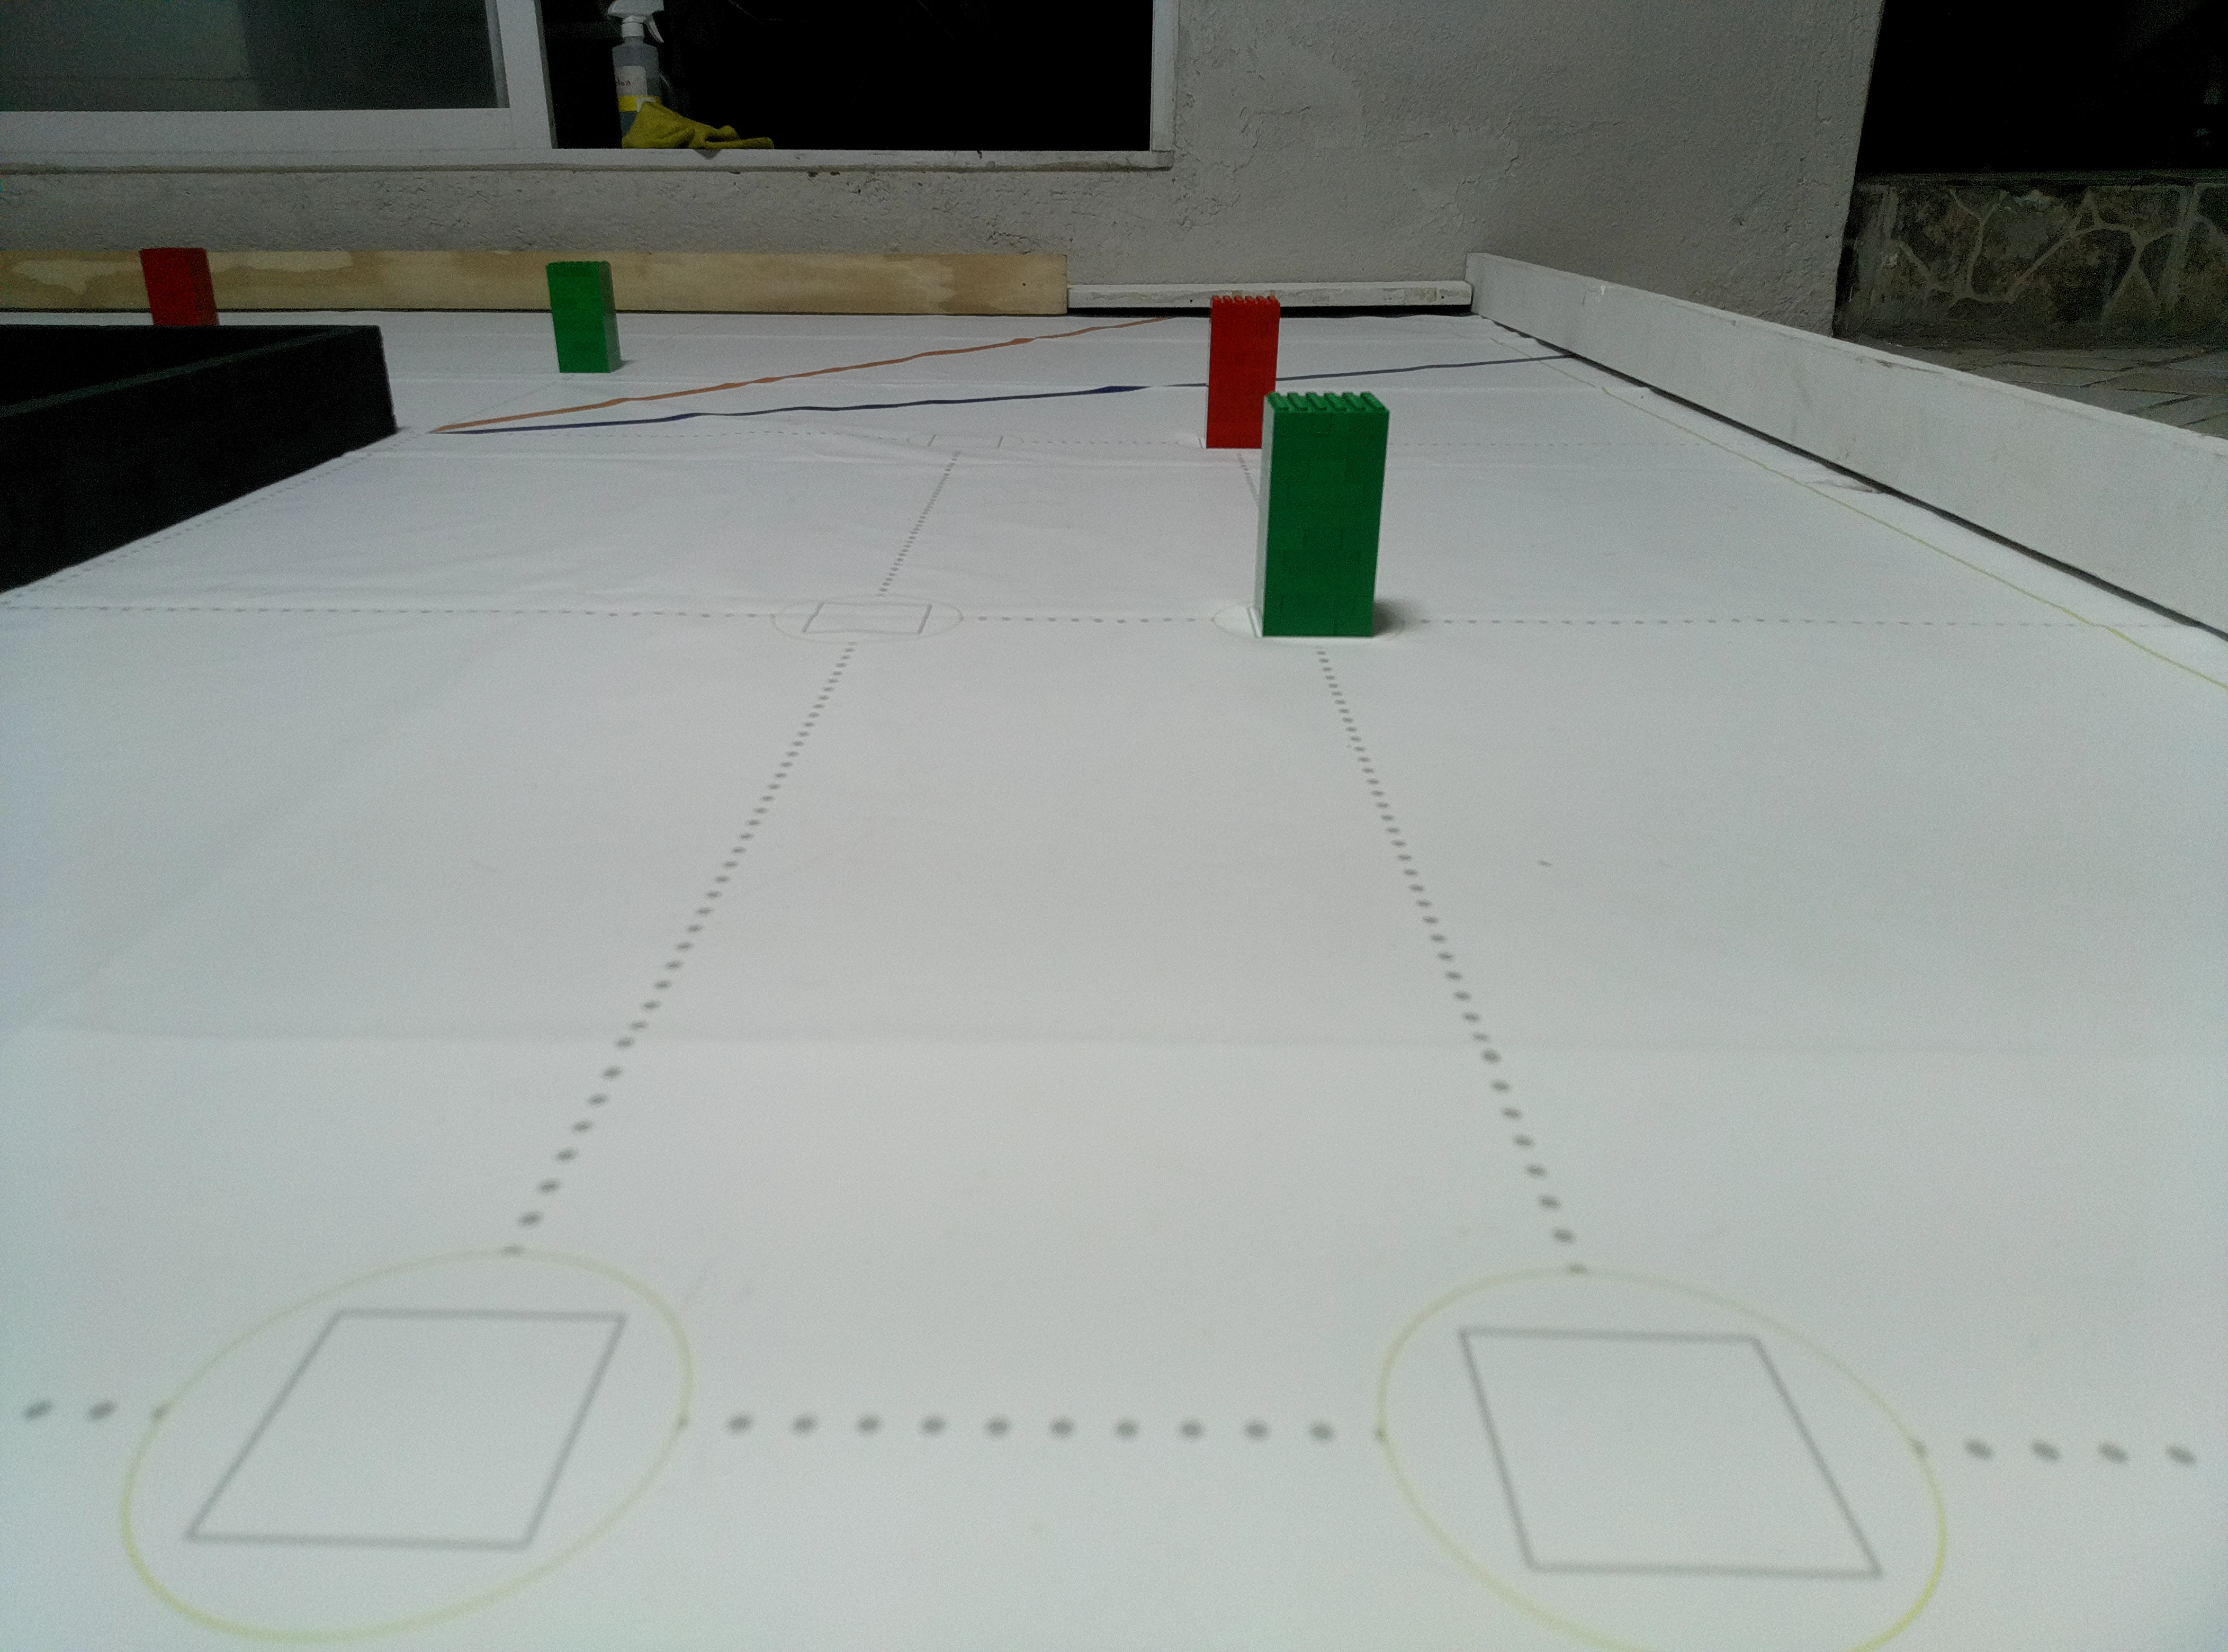greenbox: (1251, 389, 1392, 642), (543, 260, 626, 375)
redbox: (1201, 292, 1282, 451), (135, 245, 222, 328)
